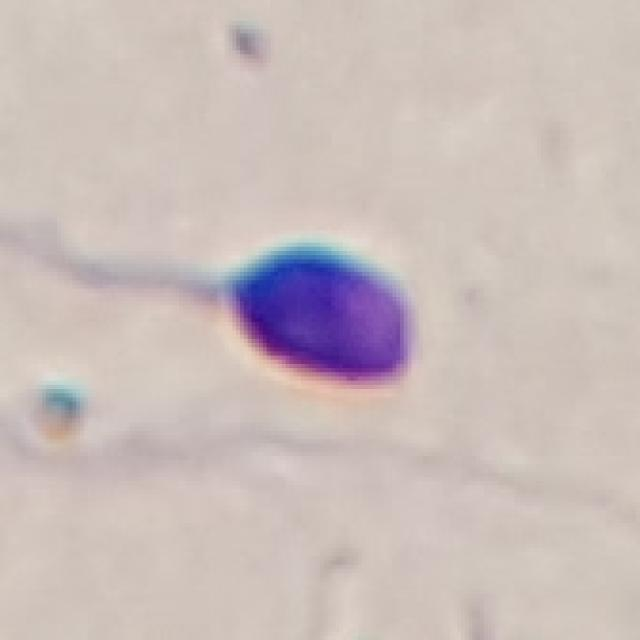normal sperm: (124, 240, 414, 386)
